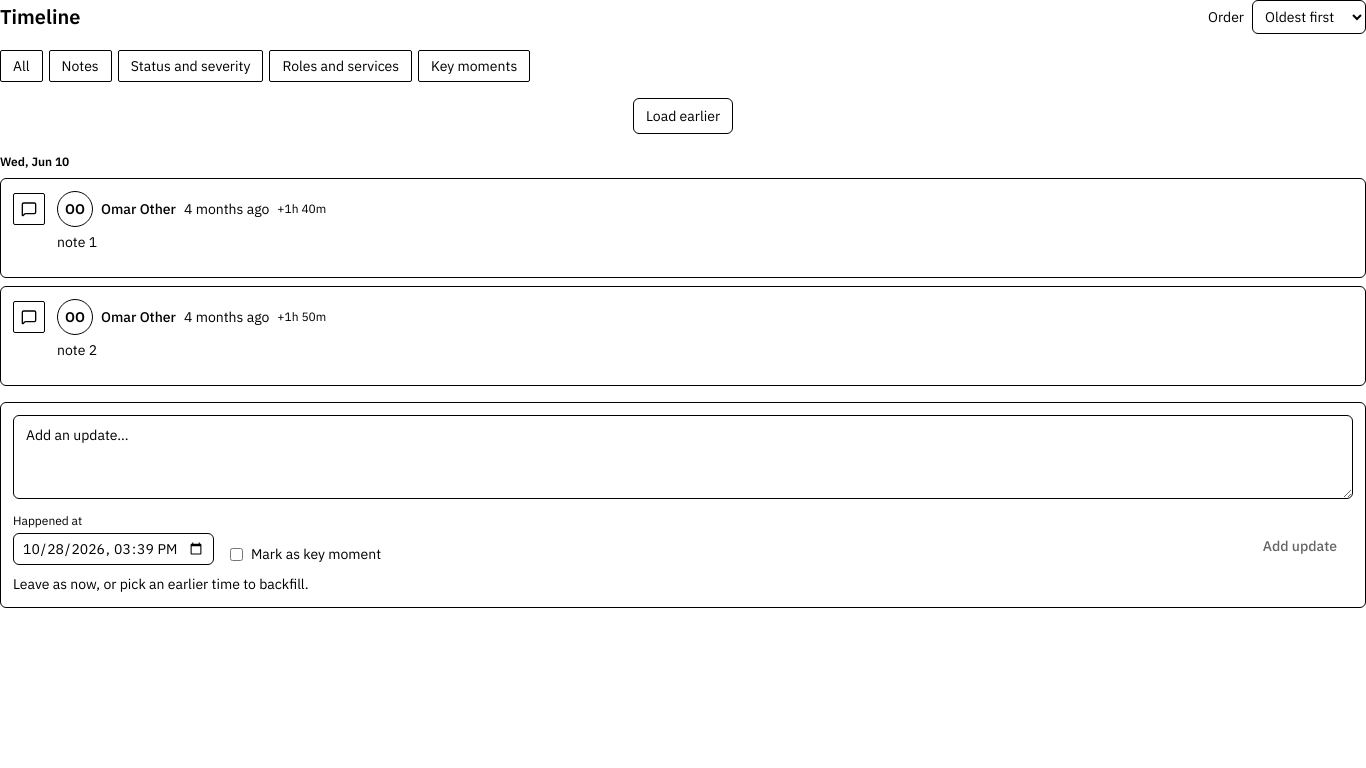
Scenario: long timelines › loads earlier entries with the cursor, puts them first, and stops when there are no more
Click the button "Load earlier" at (683,116), box [633,98,733,134]
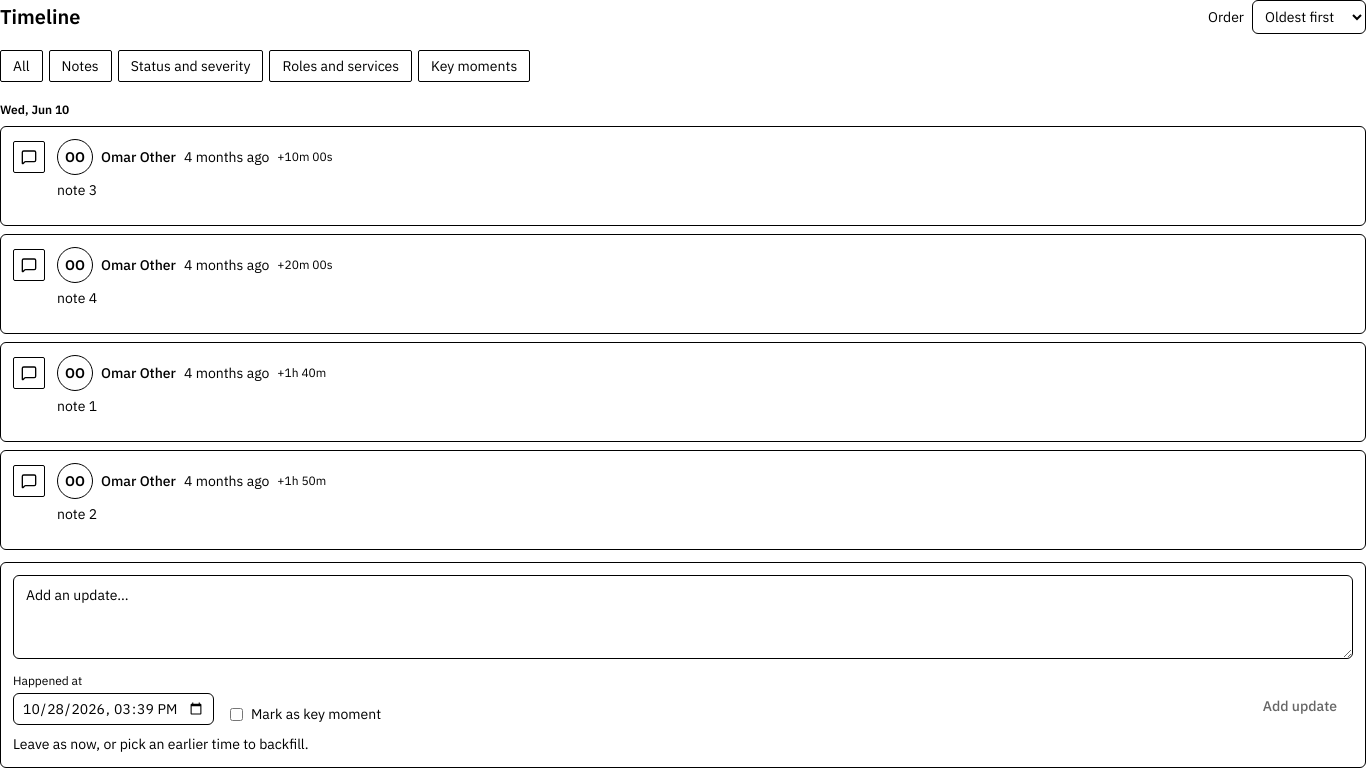
expect the button "Load earlier" is gone: met
